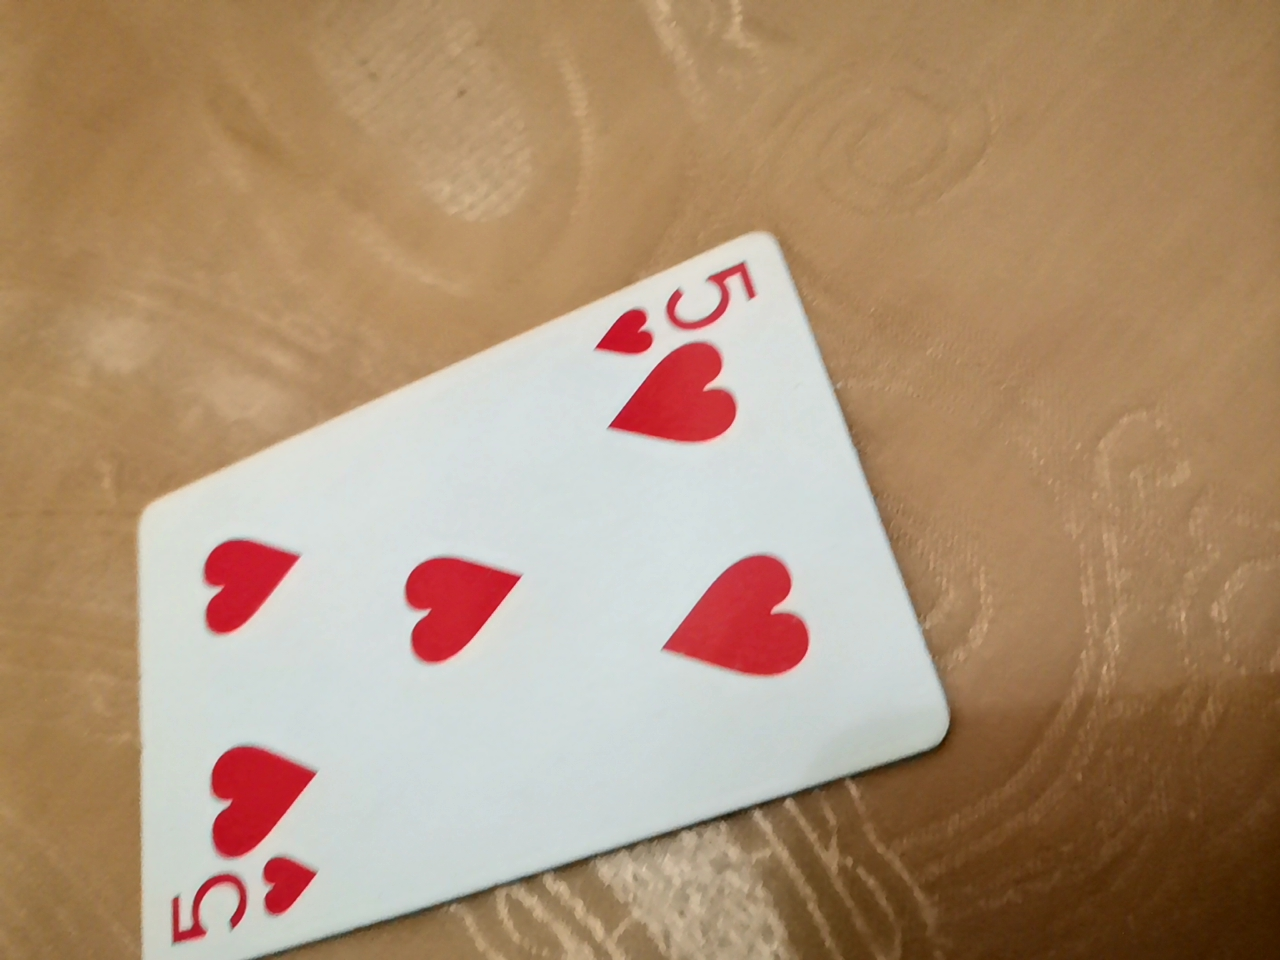hx 5: (125, 196, 964, 928)
